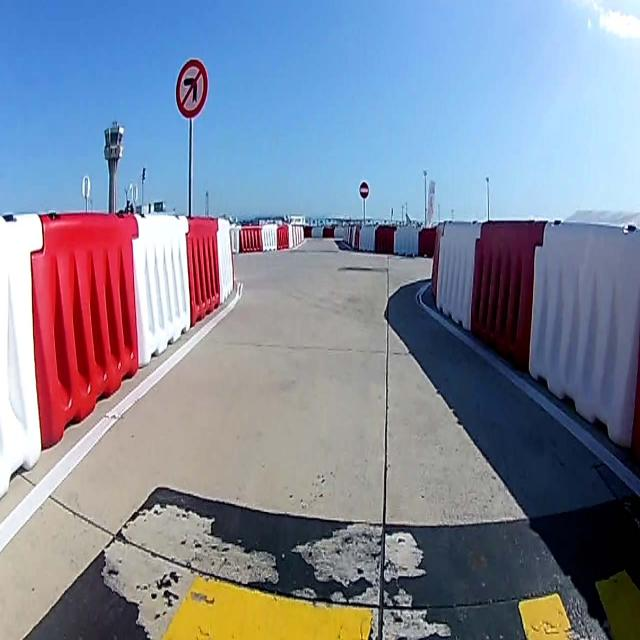girisyok: (359, 181, 369, 199)
soladonulmez: (175, 58, 209, 119)
